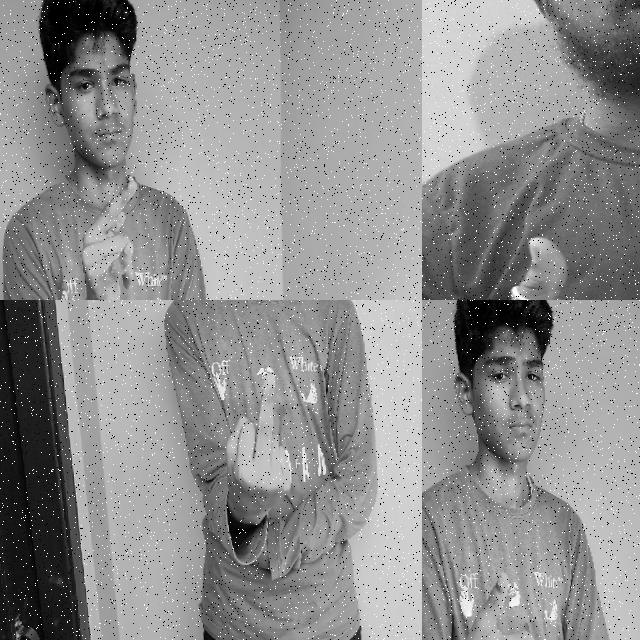Corna: (67, 177, 164, 300)
Five Fathers: (445, 202, 640, 300)
Middle Finger: (210, 382, 306, 524)
Thumbs Up: (436, 562, 551, 640)
